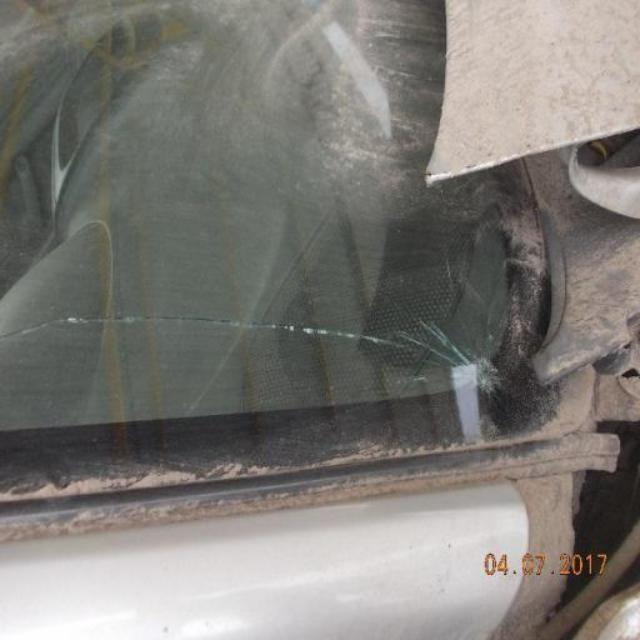lamp broken: (383, 316, 510, 403)
